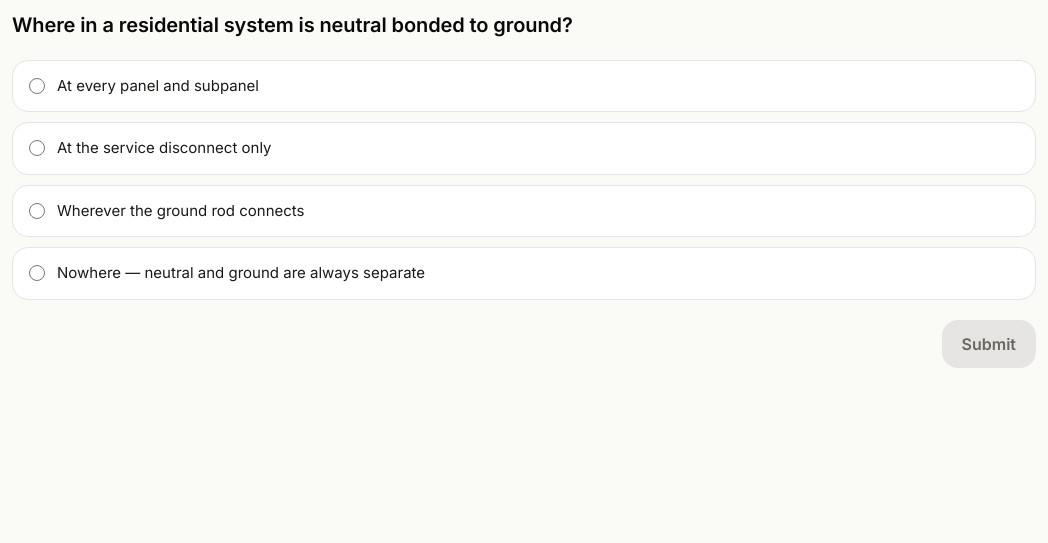
Test case: MCQuestionScreen wrong-answer inline flow › disables radios after a wrong submit until Try again is clicked
Click the radio button labelled "At every panel and subpanel": (37,86) [29, 78, 45, 94]
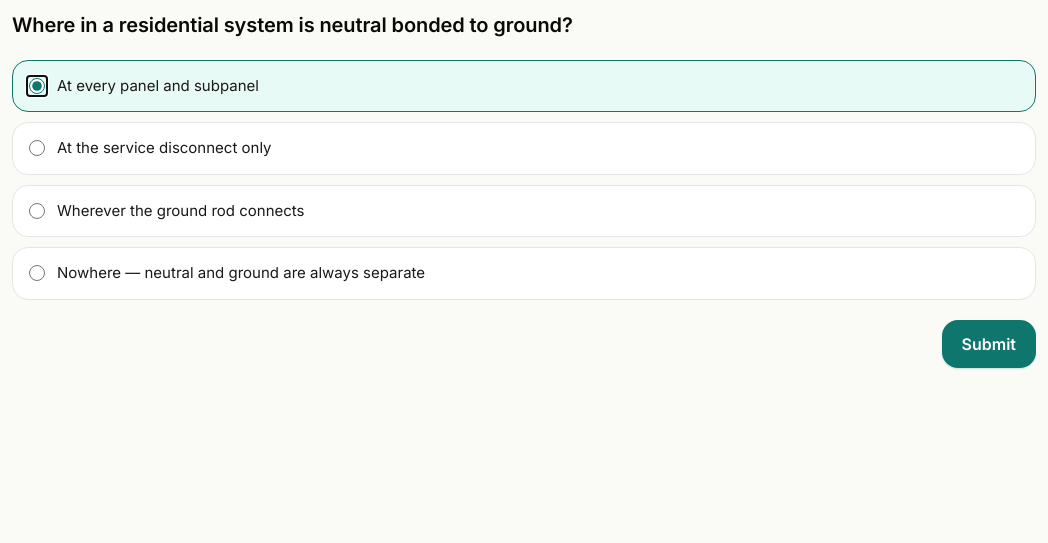
Click the button "Submit": (989,344) [942, 320, 1036, 368]
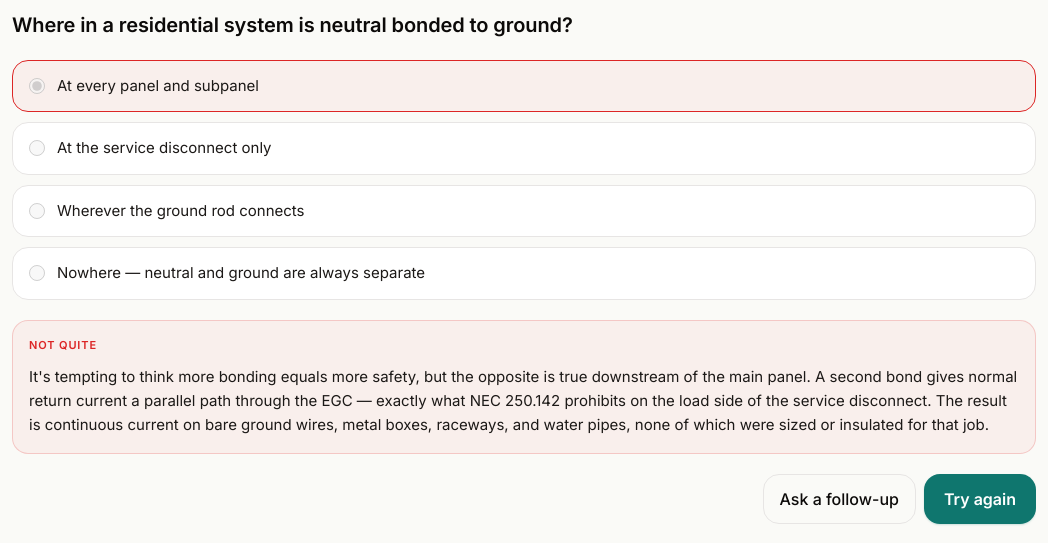
expect the radio button labelled "At every panel and subpanel" is disabled: met, box [29, 78, 45, 94]
expect the radio button labelled "At the service disconnect only" is disabled: met, box [29, 140, 45, 156]
expect the radio button labelled "Wherever the ground rod connects" is disabled: met, box [29, 203, 45, 219]
Click the button "Try again": (980,499) [924, 474, 1036, 524]
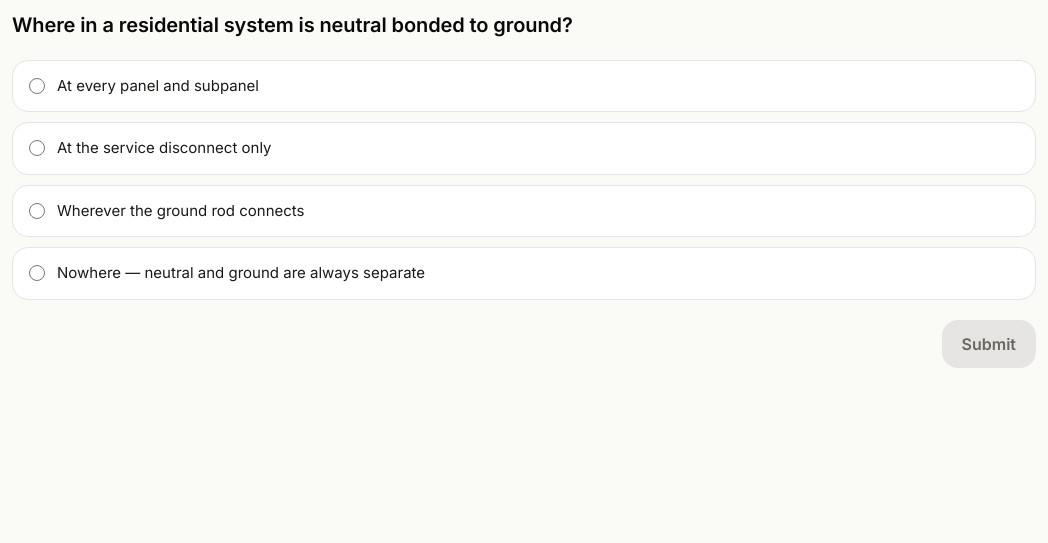
expect the radio button labelled "At every panel and subpanel" is enabled: met, box [29, 78, 45, 94]
expect the radio button labelled "At the service disconnect only" is enabled: met, box [29, 140, 45, 156]
expect the radio button labelled "Wherever the ground rod connects" is enabled: met, box [29, 203, 45, 219]
